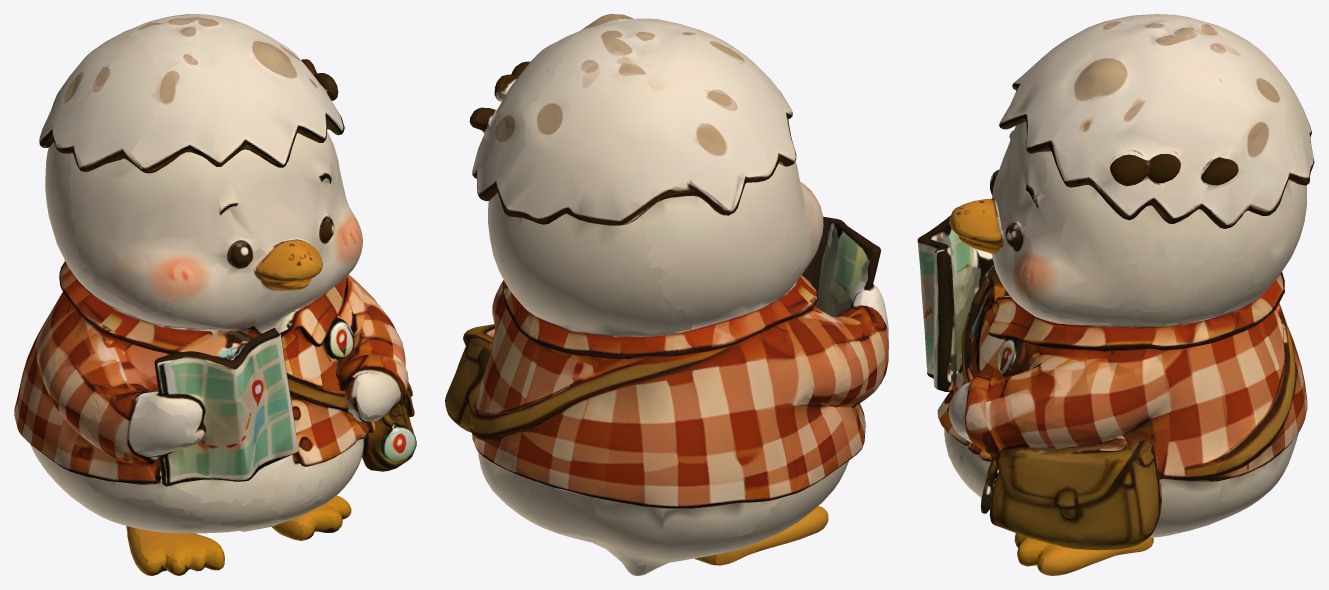
Rendered from duck_textured.glb.
The picture shows the model from 3 angles, left to right: view 1: azimuth 30°, elevation 25°; view 2: azimuth 150°, elevation 25°; view 3: azimuth 270°, elevation 25°; orthographic projection. The views are drawn at different scales.
Visible parts, largest first — view 1: textured_mesh; view 2: textured_mesh; view 3: textured_mesh.
Part boxes in pixels (x1,y1,x2,y2): textured_mesh: (14,14,416,575); textured_mesh: (445,14,888,575); textured_mesh: (917,14,1314,575).
Size of the model in its own units: 1.56 by 1.99 by 1.43.
Materials: 1 (1 with a texture image).
